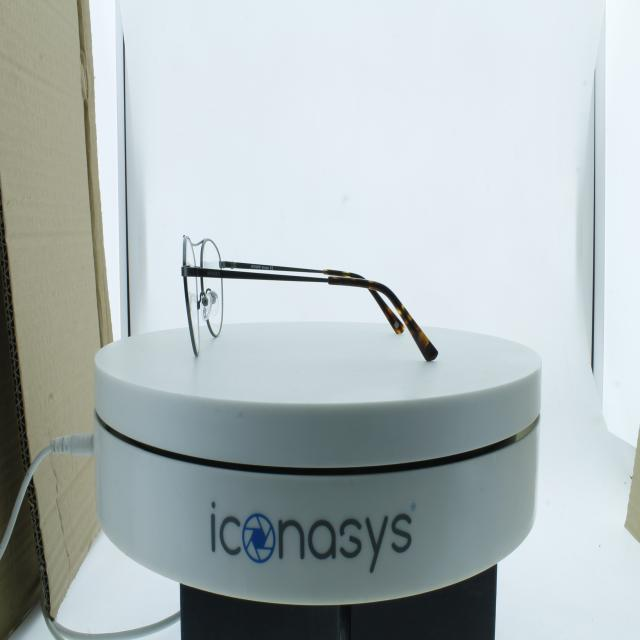Specs: (160, 213, 462, 371)
